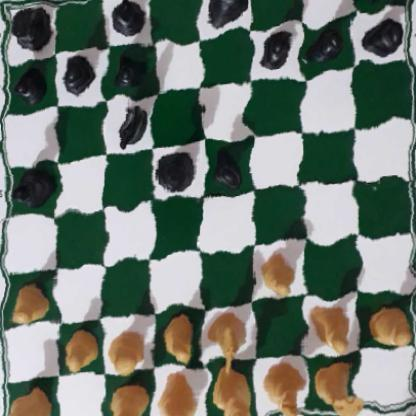black-bishop: (9, 164, 53, 213), (109, 0, 150, 38)
black-king: (154, 146, 196, 196), (201, 0, 251, 30)
black-knight: (114, 95, 152, 147)
black-pawn: (208, 139, 246, 193), (362, 13, 403, 60), (257, 22, 294, 72), (310, 20, 346, 69), (64, 45, 96, 98), (110, 45, 147, 90), (13, 64, 49, 102)
black-rook: (3, 0, 55, 57), (359, 0, 412, 5)
white-bishop: (262, 363, 302, 416), (109, 378, 151, 416)
white-king: (211, 364, 249, 416)
white-knight: (213, 307, 247, 376)
white-pawn: (306, 296, 352, 352), (366, 301, 411, 347), (11, 280, 54, 327), (108, 320, 146, 373), (257, 249, 298, 297), (161, 315, 198, 363), (64, 326, 94, 374)
white-queen: (158, 371, 200, 416)
white-rook: (310, 357, 361, 416), (3, 379, 47, 416)
